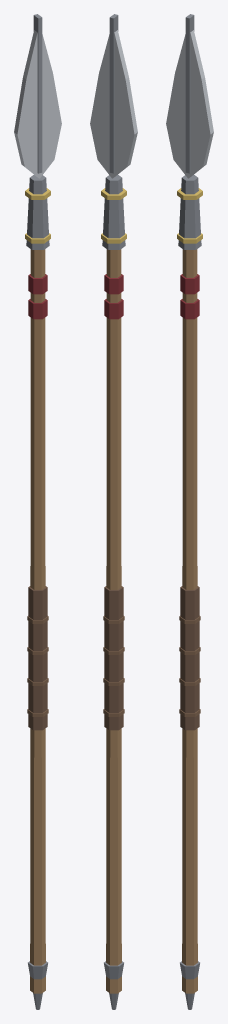
File: Weapon_Spear.glb
3 views of the same model, side by side, from view 1: azimuth 30°, elevation 25°; view 2: azimuth 150°, elevation 25°; view 3: azimuth 330°, elevation 25° (orthographic).
Visible parts, largest first — view 1: Spear; view 2: Spear; view 3: Spear.
Boxes of the visible parts, bbox=[...] form: Spear: bbox=[14, 14, 61, 1009]; Spear: bbox=[90, 14, 137, 1009]; Spear: bbox=[166, 14, 213, 1009].
Bounding box in the file's own units: 0.15 × 3.2 × 0.076.
